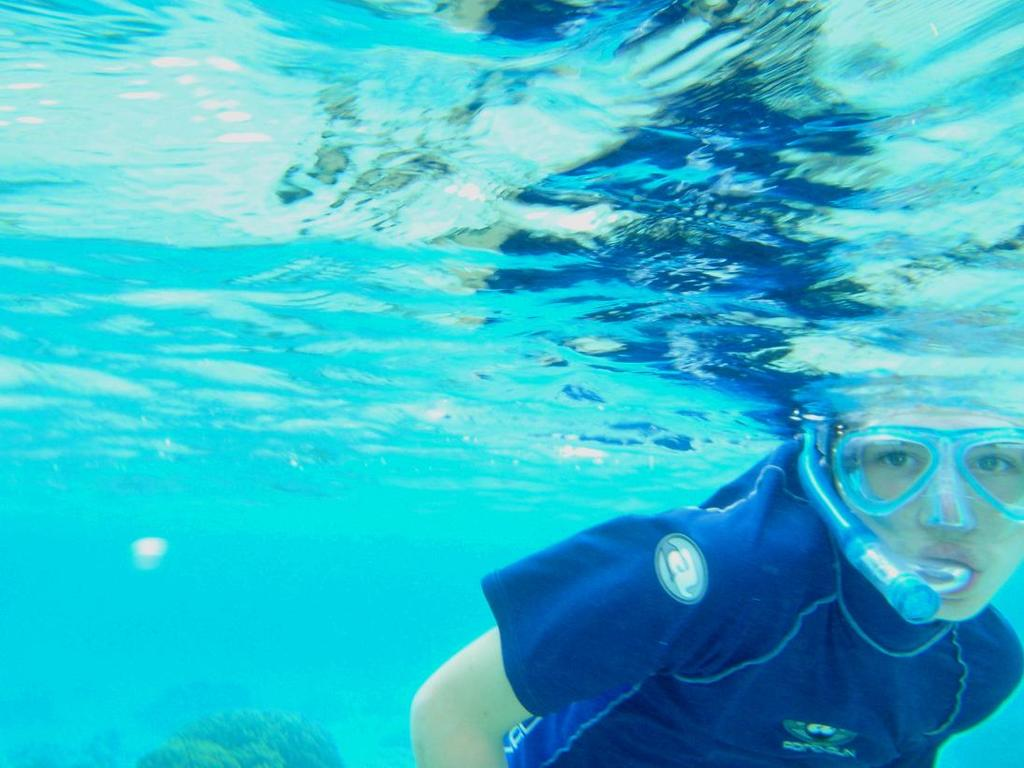Person: (411, 386, 1024, 768)
